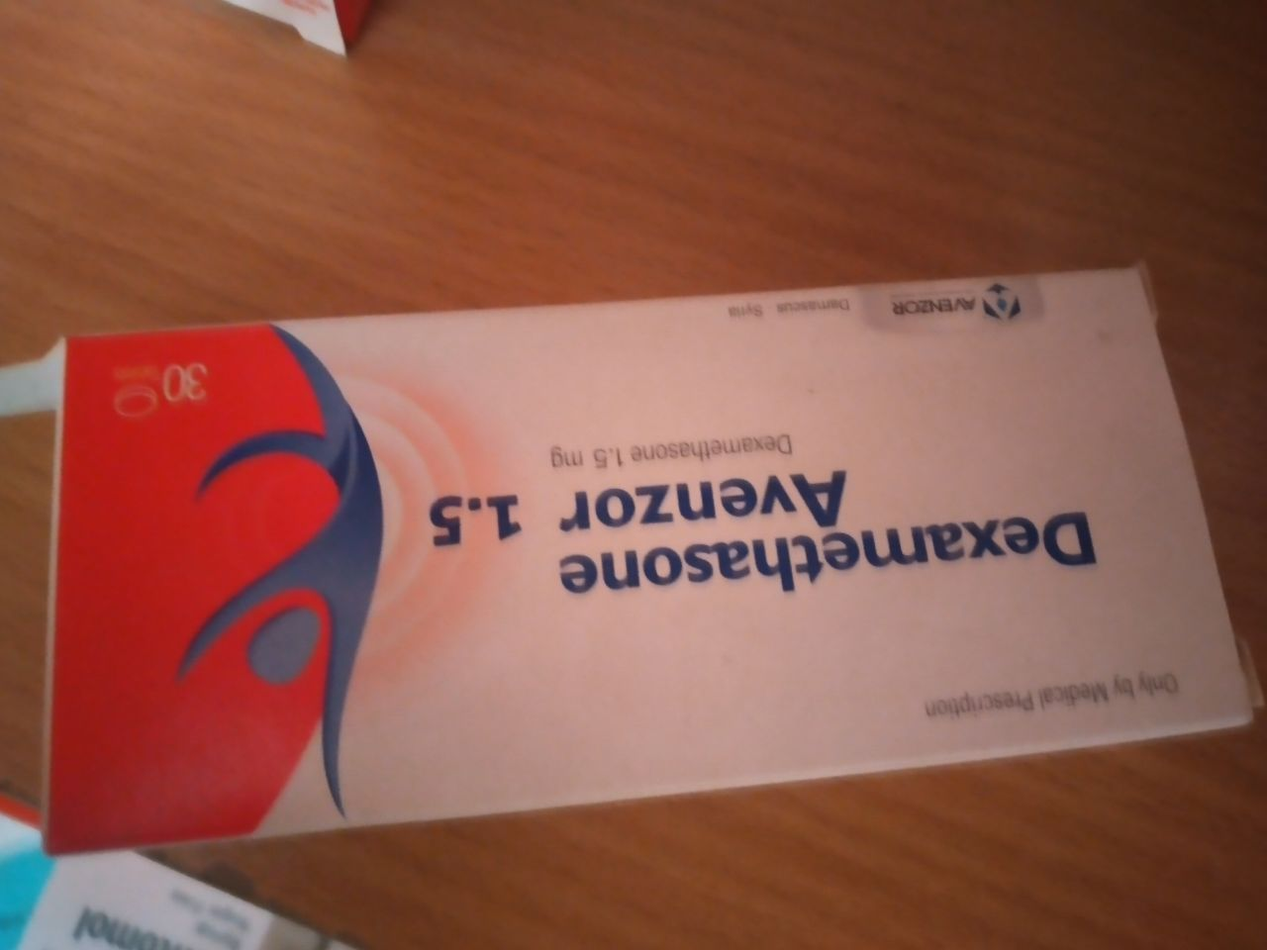Medicine: (20, 265, 1267, 883)
